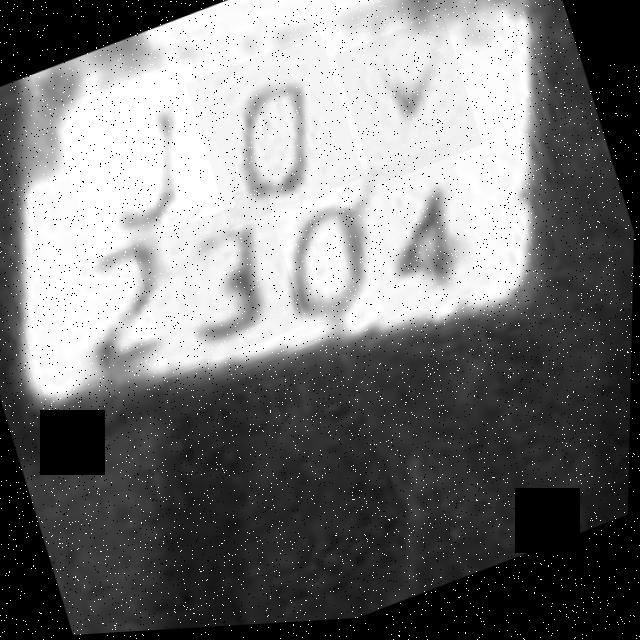2: (47, 217, 205, 387)
3: (127, 183, 311, 380)
4: (343, 145, 495, 330)
J: (47, 56, 240, 263)
O: (184, 34, 368, 234)
P: (332, 18, 486, 193)
